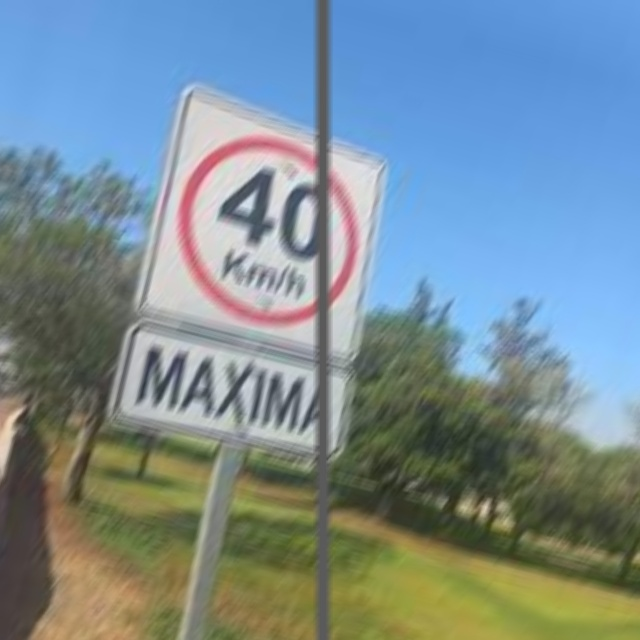Speed_Limit_40: (147, 104, 397, 357)
